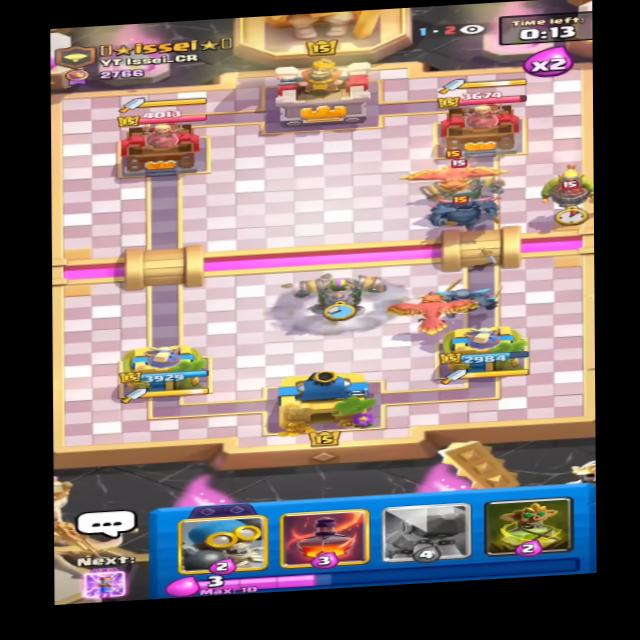goblin-demolisher: (532, 162, 603, 215)
goblin-machine: (413, 165, 510, 211)
pekka: (426, 185, 503, 231)
phoenix: (404, 142, 500, 193)
